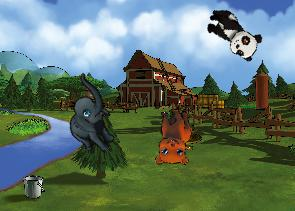bear: (146, 105, 196, 169)
elephant: (46, 72, 135, 160)
panda: (199, 3, 266, 64)
